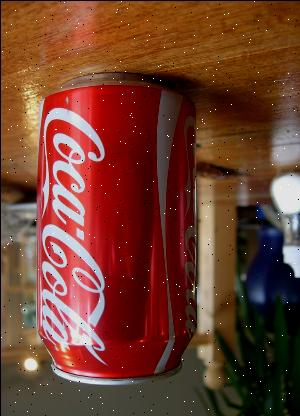Can: (31, 69, 201, 388)
